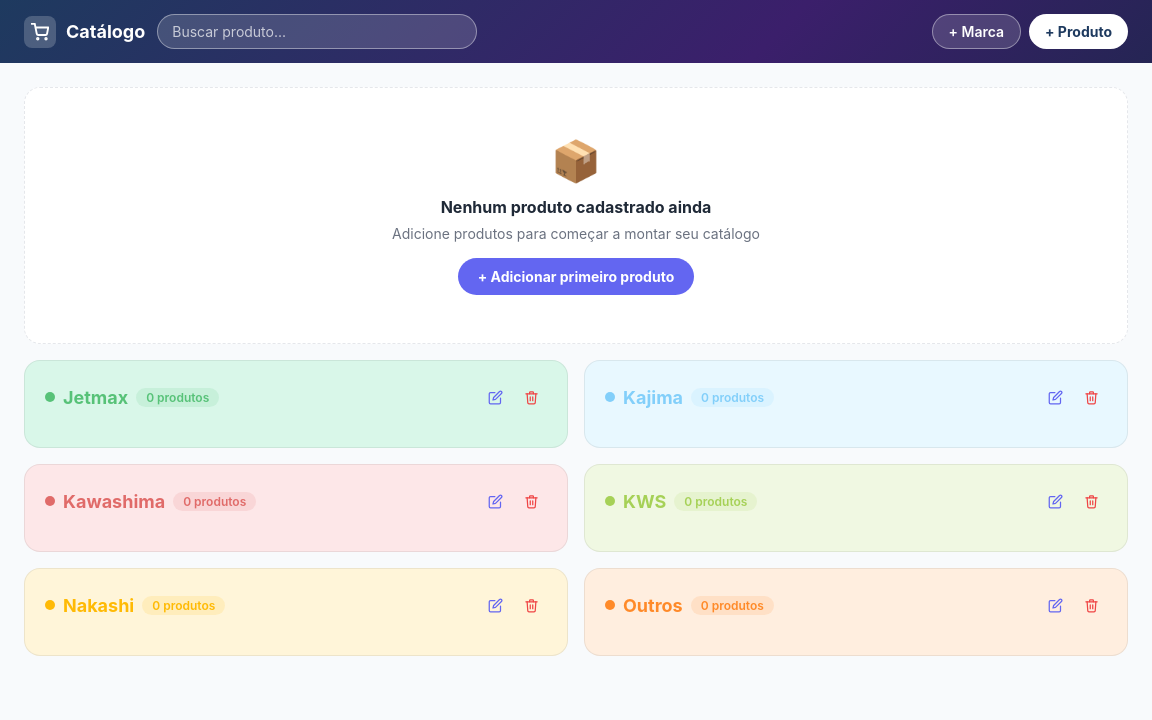
Test case: bloqueia criação de marca com nome já existente
The image size is (1152, 720).
Click the button "+ Marca". click: (976, 32)
box: x1=932 y1=14 x2=1021 y2=49
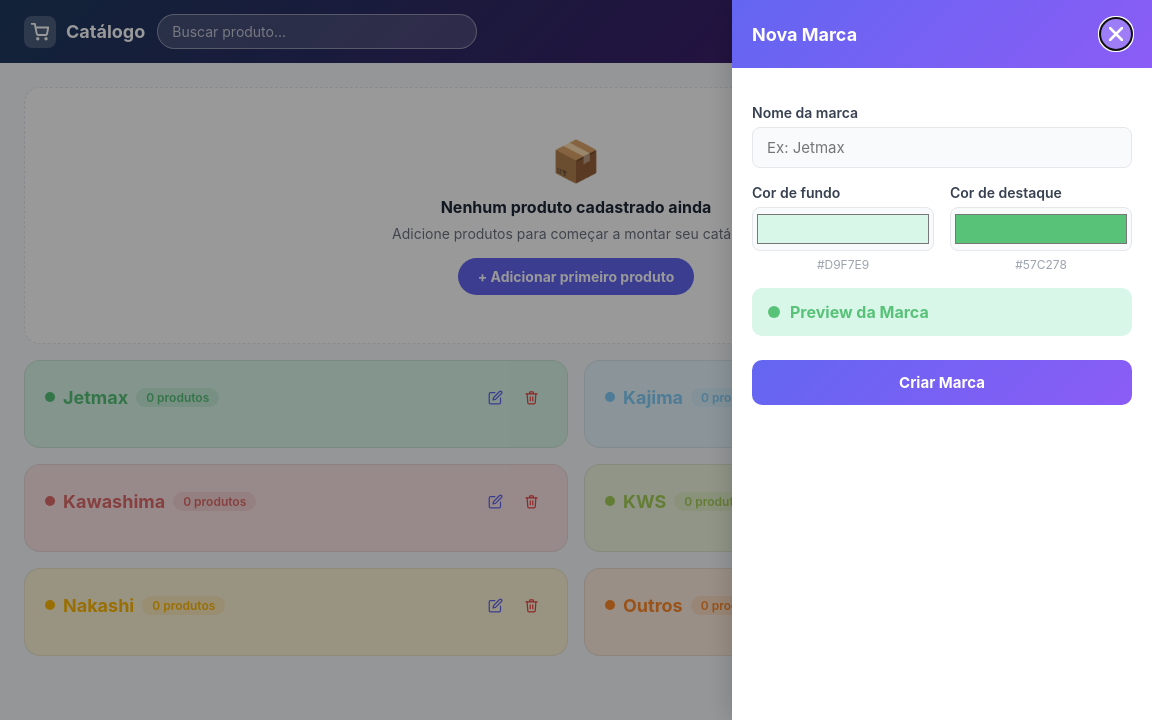
Type "jetmax" into the field labelled "Nome da marca". click: (942, 148)
box: x1=752 y1=127 x2=1132 y2=168
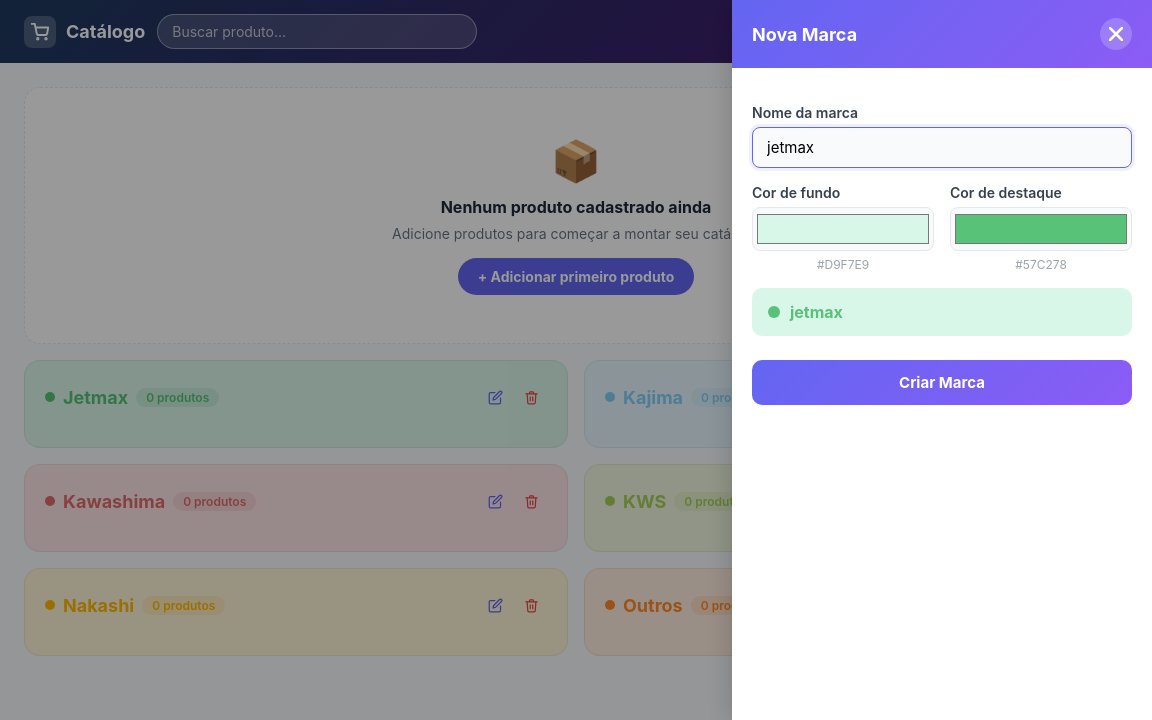
Click the button "Criar Marca". click: (942, 382)
box: x1=752 y1=360 x2=1132 y2=405
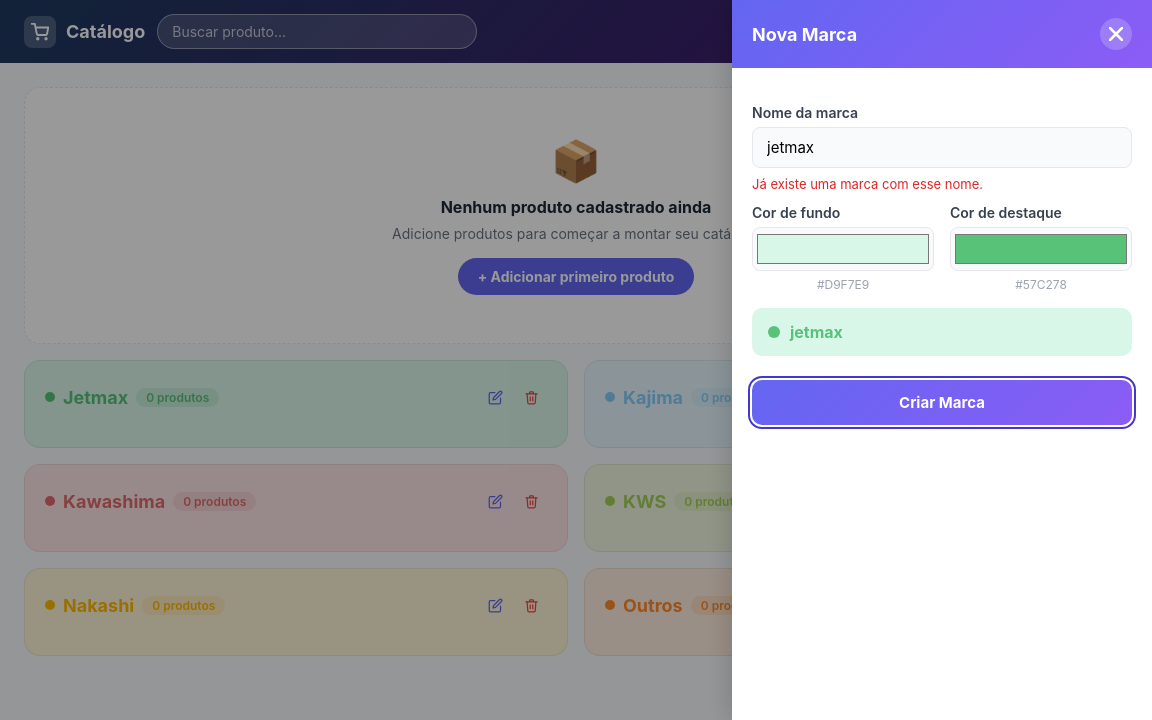
Result: the message shows "Já existe" at x1=752 y1=176 x2=983 y2=192
